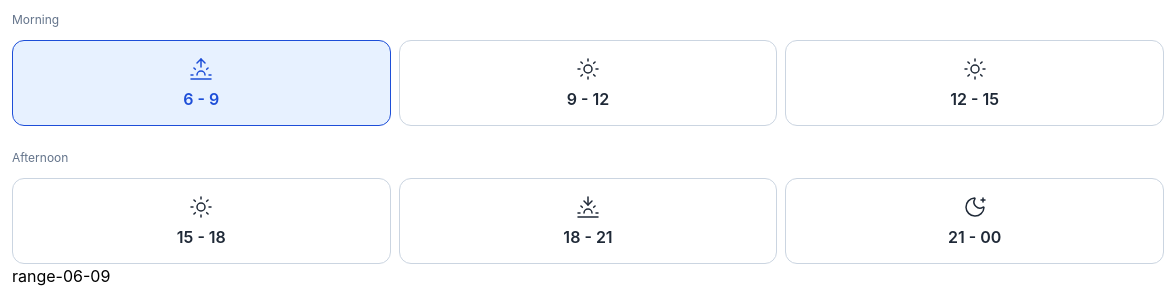
Scenario: TimeRangeSelector › notifies the context action when selecting a different range
The image size is (1176, 303).
What coordinates should you click on to do the following:
click the radio button labelled "9 - 12"
I would click on:
 (588, 83)
Its box is [399, 40, 777, 126].
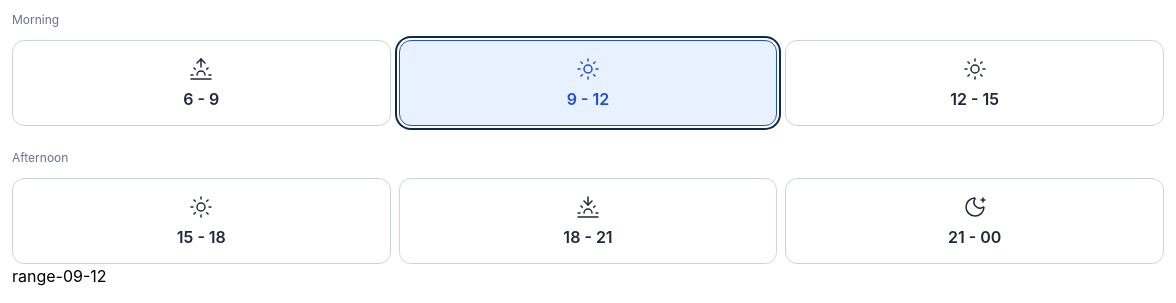
Check: the text with test id "selected-range" reads "range-09-12", box [12, 266, 107, 286]
